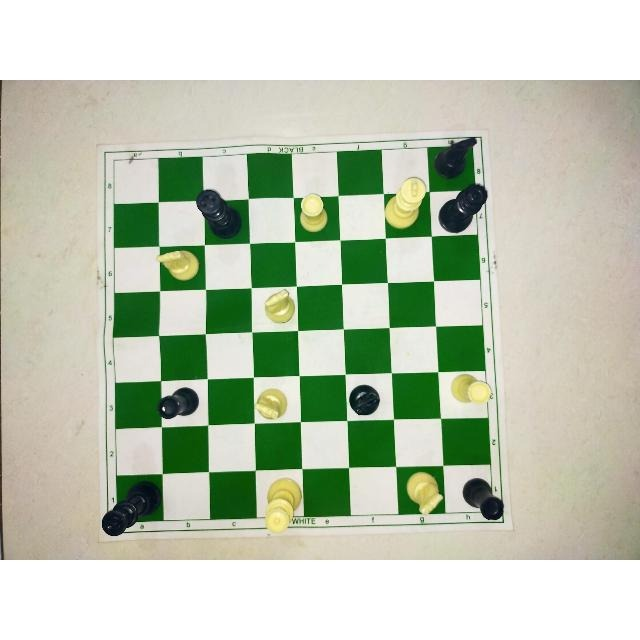black-king: (101, 478, 165, 538), (195, 188, 243, 238)
black-knight: (434, 133, 478, 178), (348, 384, 380, 416)
black-queen: (437, 182, 489, 234)
black-rook: (462, 474, 506, 522), (157, 384, 201, 420)
white-king: (384, 175, 428, 231)
white-knight: (404, 468, 446, 520), (156, 248, 201, 284), (263, 283, 295, 324), (254, 386, 288, 423)
white-queen: (265, 476, 303, 534)
white-rook: (451, 371, 493, 405), (298, 192, 330, 234)
